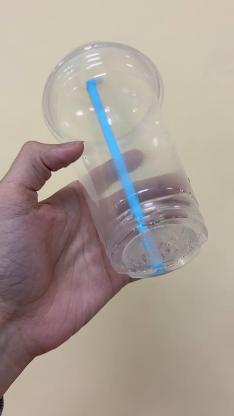Plastic Cup: (43, 41, 211, 280)
